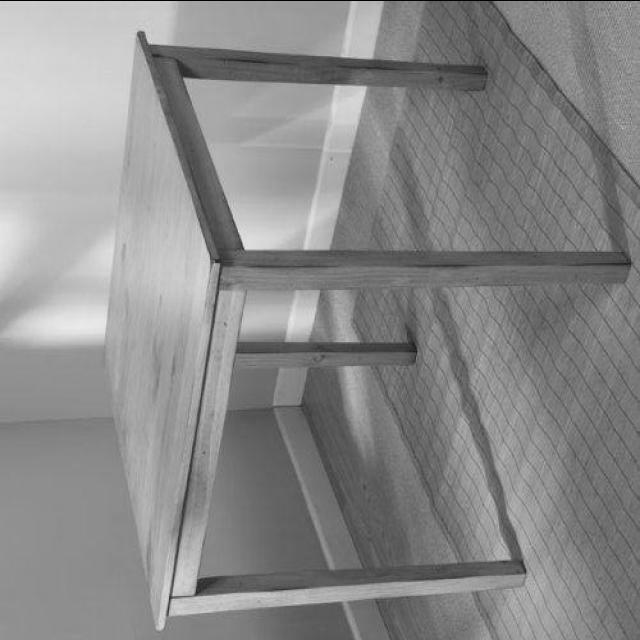table: (100, 33, 630, 626)
